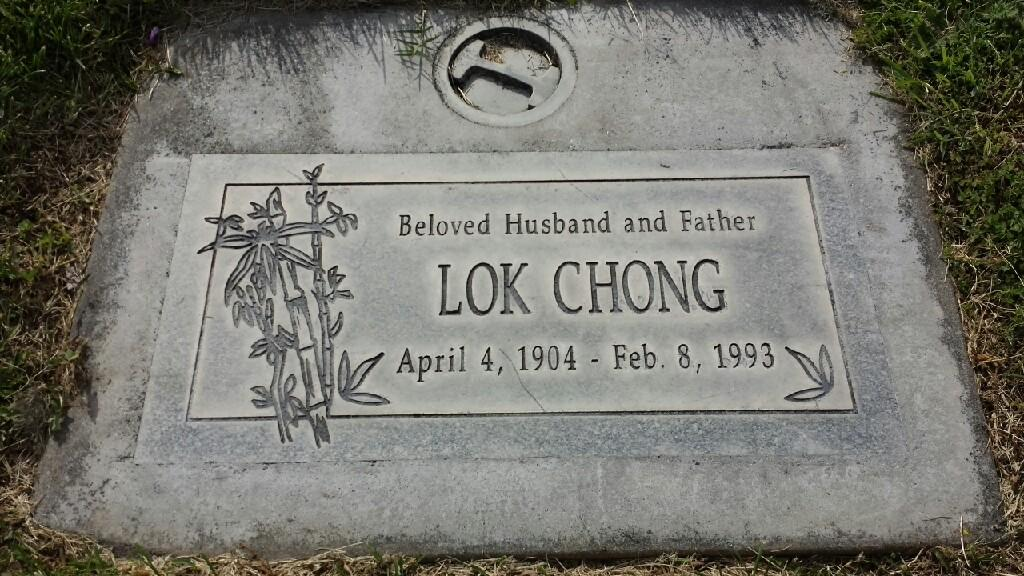flat: (23, 0, 1002, 548)
